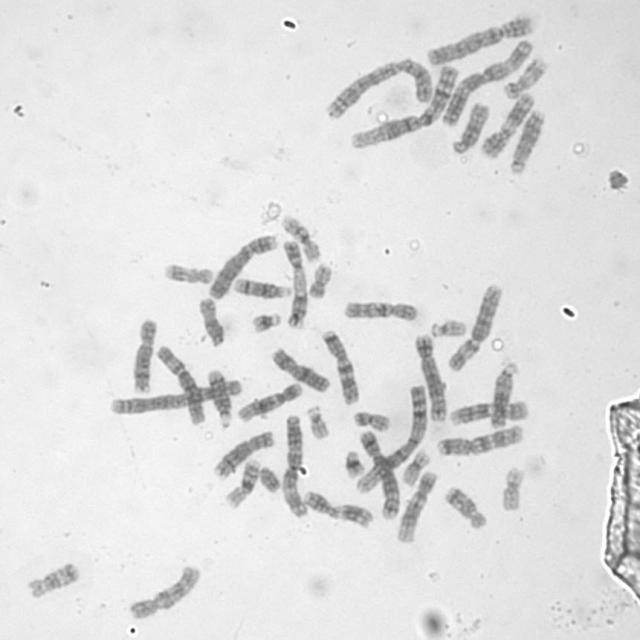A1: (344, 60, 460, 151), (354, 380, 430, 494)
A2: (321, 53, 435, 121), (106, 373, 243, 416)
A3: (436, 34, 536, 128), (279, 410, 310, 519)
B4: (422, 10, 535, 68), (203, 229, 280, 301)
B5: (355, 424, 403, 522), (411, 329, 451, 422)
C10: (125, 560, 203, 622), (339, 295, 419, 322)
C11: (476, 87, 536, 159), (300, 485, 376, 529)
C12: (391, 467, 438, 543), (235, 378, 305, 422)
C6: (443, 278, 505, 373), (153, 340, 209, 427)
C7: (317, 323, 361, 406), (433, 420, 527, 458)
C8: (210, 426, 278, 480), (128, 312, 160, 394)
C9: (279, 236, 309, 330), (444, 395, 532, 427)
D13: (508, 106, 548, 176), (486, 356, 520, 429)
D14: (203, 364, 235, 429), (229, 272, 294, 300)
D15: (448, 98, 492, 156), (195, 293, 227, 349)
E16: (279, 211, 325, 264), (222, 454, 262, 510)
E17: (500, 53, 550, 100), (160, 258, 215, 286)
E18: (23, 557, 82, 601), (441, 481, 490, 531)
F19: (397, 444, 433, 486), (497, 462, 527, 512)
F20: (305, 258, 334, 300), (350, 406, 393, 432)
G21: (248, 308, 283, 334), (341, 446, 367, 480)
G22: (303, 400, 332, 441), (427, 314, 469, 339)
X: (268, 343, 332, 394)
Y: (256, 461, 282, 494)
